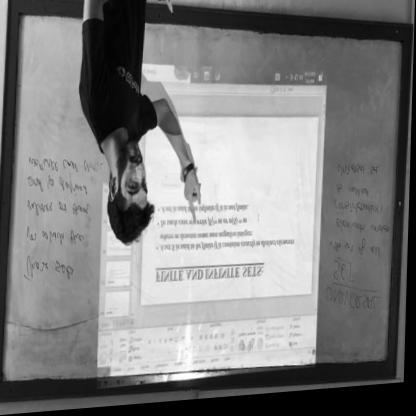Handwritten text: (20, 170, 99, 208), (21, 223, 89, 256), (324, 286, 383, 324), (24, 254, 81, 290), (25, 198, 98, 224), (332, 242, 391, 271), (334, 160, 385, 191), (333, 223, 395, 245), (332, 204, 391, 225), (335, 186, 377, 207), (330, 267, 359, 289)
Lecturer: (56, 7, 202, 261)
Whiteboard: (0, 14, 406, 403)
